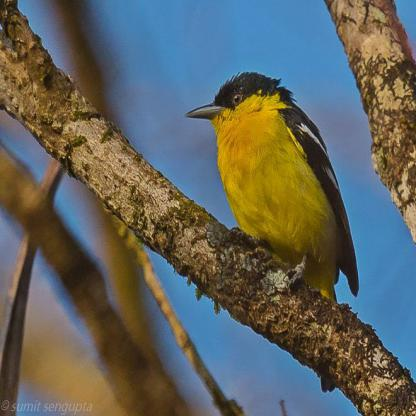Burung: (185, 72, 359, 297)
